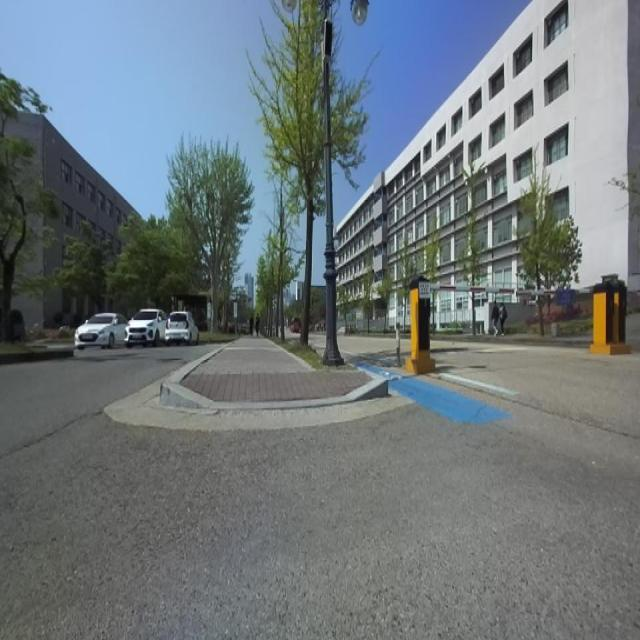sidewalk: (181, 338, 370, 403)
